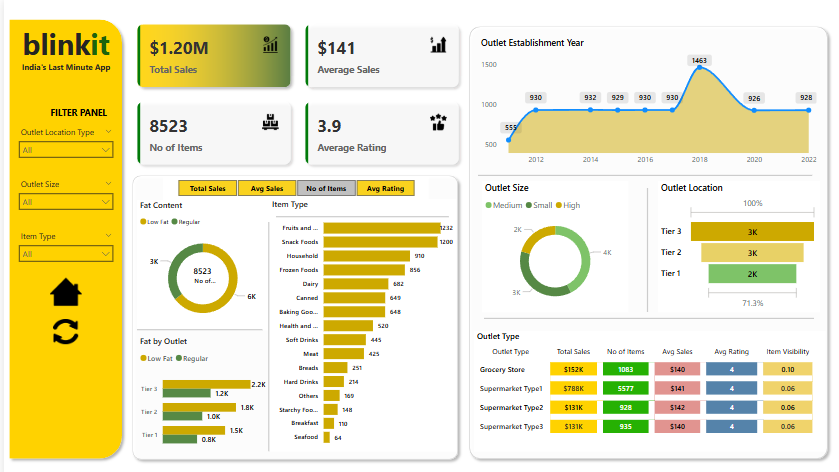

The page's visual inventory and layout, read from the dashboard file:
{"tool":"powerbi","page":{"name":"Page 1","canvas":[1400,800],"ordinal":0},"visuals":[{"type":"shape","box":[0,24.1,205.6,750.2],"z":0},{"type":"textbox","box":[20.9,35.3,163.9,75.5],"z":1000},{"type":"textbox","box":[14.5,98,176.7,27.3],"z":2000},{"type":"cardVisual","fields":{"Data":["Key Metrics.Total Sales","Key Metrics.Average Sales","Key Metrics.No of Items","Key Metrics.Average Rating"]},"box":[205.6,24.1,570.3,269.9],"z":3000},{"type":"shape","box":[205.6,282.7,560.6,491.6],"z":4000},{"type":"donutChart","title":"Fat Content","fields":{"Y":["Key Metrics.Total Sales"],"Category":["BlinkIT Grocery Data.Item Fat Content"]},"box":[221.4,332.9,220,217.1],"z":5000},{"type":"slicer","fields":{"Values":["Metrics.Metrics"]},"box":[265.1,294,443.4,40.2],"z":6000},{"type":"cardVisual","fields":{"Data":["Key Metrics.Total Sales"]},"box":[289.2,422.5,85.1,73.9],"z":7000},{"type":"clusteredBarChart","title":"Fat by Outlet","fields":{"Y":["Key Metrics.Total Sales"],"Category":["BlinkIT Grocery Data.Outlet Location Type"],"Series":["BlinkIT Grocery Data.Item Fat Content"]},"box":[221.4,560,220,201.4],"z":8000},{"type":"barChart","title":"Item Type","fields":{"Y":["Key Metrics.Total Sales"],"Category":["BlinkIT Grocery Data.Item Type"]},"box":[441.8,330.9,311.6,420.9],"z":9000},{"type":"shape","box":[221.7,520.5,208.8,59.4],"z":10000},{"type":"shape","box":[409.6,369.5,62.7,382.3],"z":11000},{"type":"shape","box":[453,330.9,287.6,59.4],"z":12000},{"type":"shape","box":[766.3,35.3,615.3,739],"z":13000},{"type":"areaChart","title":"Outlet Establishment Year","fields":{"Y":["Key Metrics.Total Sales"],"Category":["BlinkIT Grocery Data.Outlet Establishment Year"]},"box":[790,60,570,224.3],"z":14000},{"type":"donutChart","title":"Outlet Size","fields":{"Y":["Key Metrics.Total Sales"],"Category":["BlinkIT Grocery Data.Outlet Size"]},"box":[797.1,301.4,244.3,218.6],"z":15000},{"type":"funnel","title":"Outlet Location","fields":{"Y":["Key Metrics.Total Sales"],"Category":["BlinkIT Grocery Data.Outlet Location Type"]},"box":[1090,301.4,270,218.6],"z":16000},{"type":"shape","box":[790,263.3,556.7,58.3],"z":17000},{"type":"shape","box":[1041.7,313.3,61.7,206.7],"z":18000},{"type":"shape","box":[800,501.7,550,58.3],"z":19000},{"type":"pivotTable","title":"Outlet Type","fields":{"Rows":["BlinkIT Grocery Data.Outlet Type"],"Values":["Key Metrics.Total Sales","Key Metrics.No of Items","Key Metrics.Avg Sales","Key Metrics.Avg Rating","Avg(BlinkIT Grocery Data.Item Visibility)"]},"box":[782.9,551.4,585.7,201.4],"z":20000},{"type":"slicer","fields":{"Values":["BlinkIT Grocery Data.Outlet Location Type"]},"box":[15,206.7,176.7,76.7],"z":21000},{"type":"slicer","fields":{"Values":["BlinkIT Grocery Data.Outlet Size"]},"box":[15,293.3,176.7,73.3],"z":22000},{"type":"slicer","fields":{"Values":["BlinkIT Grocery Data.Item Type"]},"box":[15,380,176.7,73.3],"z":23000},{"type":"textbox","box":[62.7,171.9,122.1,36.9],"z":24000},{"type":"actionButton","box":[76.7,460,53.3,53.3],"z":25000},{"type":"actionButton","box":[81.7,531.7,41.7,41.7],"z":26000}]}

Visuals, with their boxes in screenshot pixels (x1, y1, x2, y2), scaled from the page's 1400x800 canvas onto the 839x472 screenshot:
shape: box=[0, 14, 123, 457]
textbox: box=[13, 21, 111, 65]
textbox: box=[9, 58, 115, 74]
cardVisual - Key Metrics.Total Sales x Key Metrics.Average Sales: box=[123, 14, 465, 173]
shape: box=[123, 167, 459, 457]
"Fat Content" donutChart: box=[133, 196, 265, 324]
slicer - Metrics.Metrics: box=[159, 173, 425, 197]
cardVisual - Key Metrics.Total Sales: box=[173, 249, 224, 293]
"Fat by Outlet" clusteredBarChart: box=[133, 330, 265, 449]
"Item Type" barChart: box=[265, 195, 452, 444]
shape: box=[133, 307, 258, 342]
shape: box=[245, 218, 283, 444]
shape: box=[271, 195, 444, 230]
shape: box=[459, 21, 828, 457]
"Outlet Establishment Year" areaChart: box=[473, 35, 815, 168]
"Outlet Size" donutChart: box=[478, 178, 624, 307]
"Outlet Location" funnel: box=[653, 178, 815, 307]
shape: box=[473, 155, 807, 190]
shape: box=[624, 185, 661, 307]
shape: box=[479, 296, 809, 330]
"Outlet Type" pivotTable: box=[469, 325, 820, 444]
slicer - BlinkIT Grocery Data.Outlet Location Type: box=[9, 122, 115, 167]
slicer - BlinkIT Grocery Data.Outlet Size: box=[9, 173, 115, 216]
slicer - BlinkIT Grocery Data.Item Type: box=[9, 224, 115, 267]
textbox: box=[38, 101, 111, 123]
actionButton: box=[46, 271, 78, 303]
actionButton: box=[49, 314, 74, 338]
